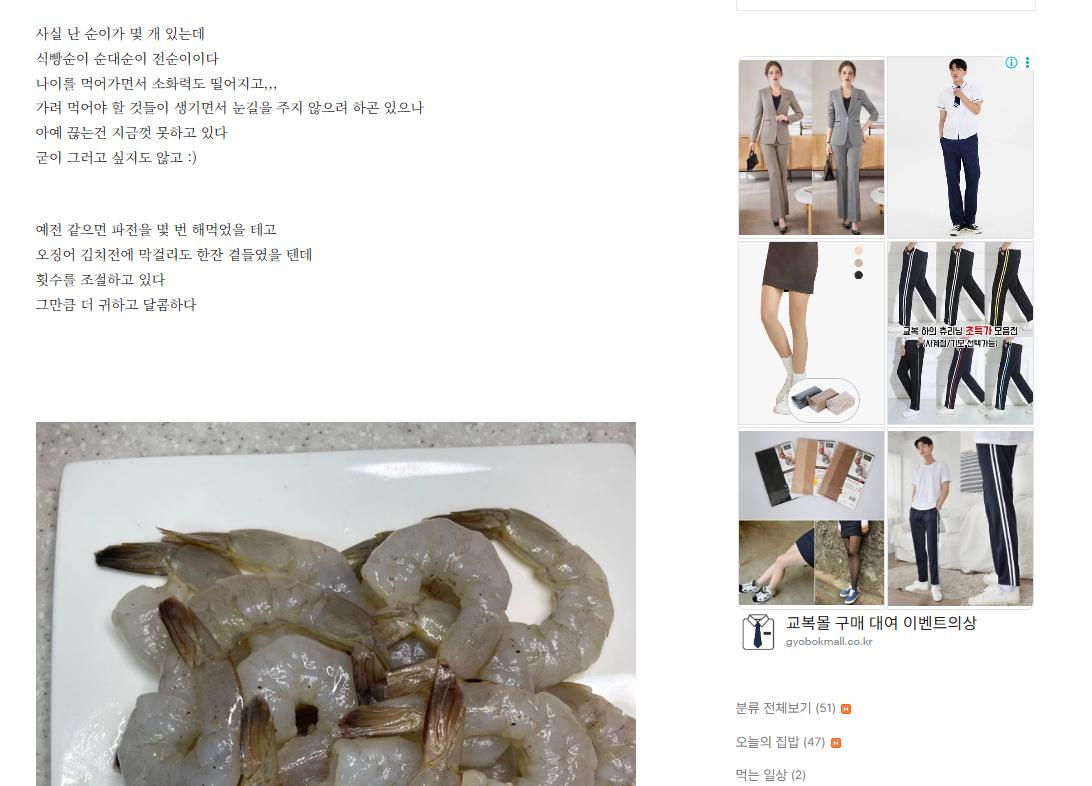button: (733, 720, 848, 747), (729, 693, 848, 714), (732, 764, 808, 781)
